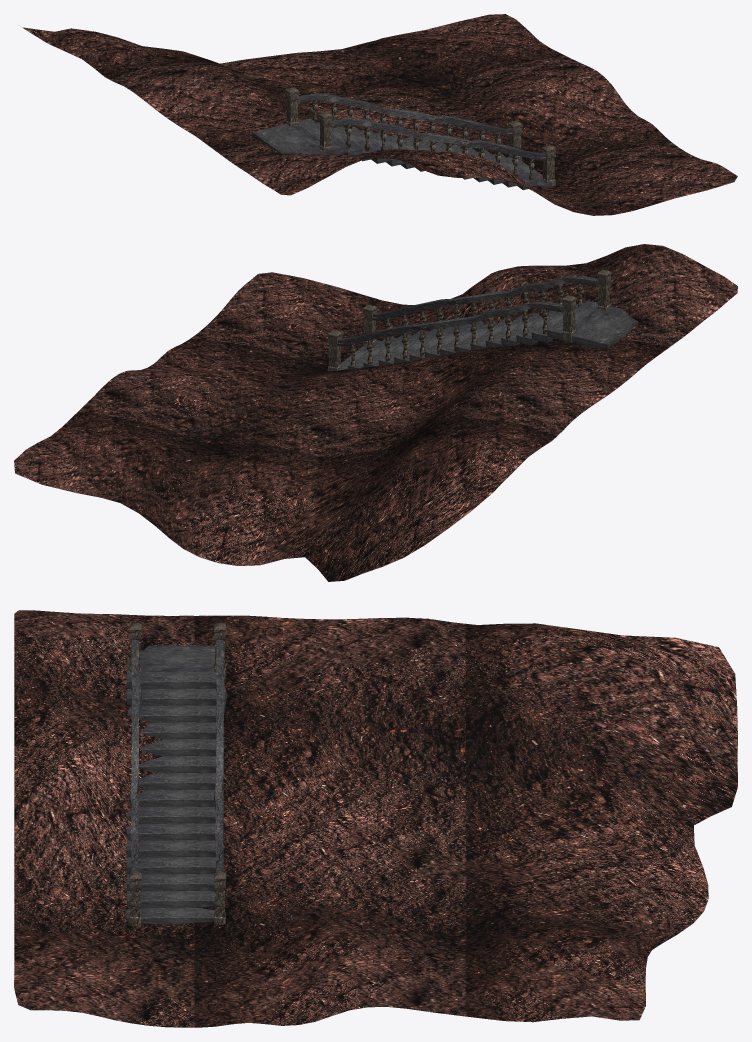
Rendered from Stairs.fbx.
3 views of the same model, one above another, from view 1: azimuth 30°, elevation 25°; view 2: azimuth 150°, elevation 25°; view 3: azimuth 270°, elevation 25° (orthographic). The views are drawn at different scales.
Visible parts, largest first — view 1: pPlane1, Stair50; view 2: pPlane1, Stair50; view 3: pPlane1, Stair50.
Part boxes in pixels (x1,y1,x2,y2): pPlane1: (22, 14, 737, 215); Stair50: (252, 87, 555, 189); pPlane1: (14, 244, 737, 581); Stair50: (327, 269, 638, 371); pPlane1: (14, 610, 737, 1027); Stair50: (126, 623, 226, 926).
Size of the model in its own units: 15.15 by 4.68 by 16.4.
3 materials, 3 textured.
